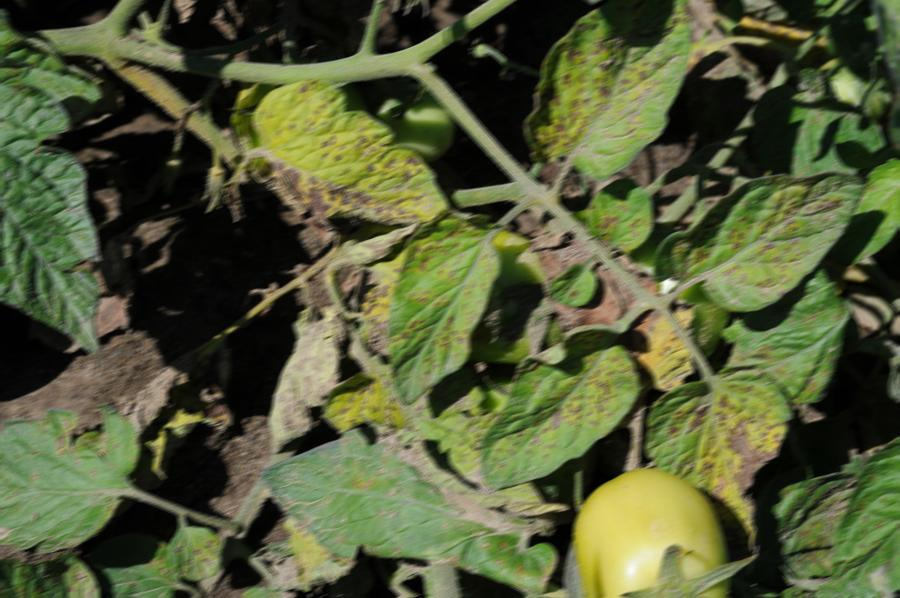Tomato Septoria leaf spot: (247, 76, 448, 240), (521, 2, 703, 183), (646, 344, 795, 544), (383, 210, 515, 409), (688, 170, 870, 313), (467, 334, 639, 481)
